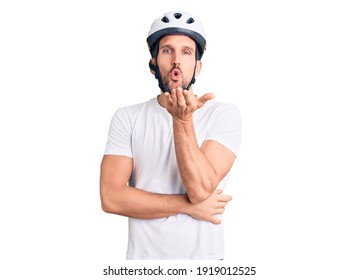helmet: (145, 9, 207, 97)
